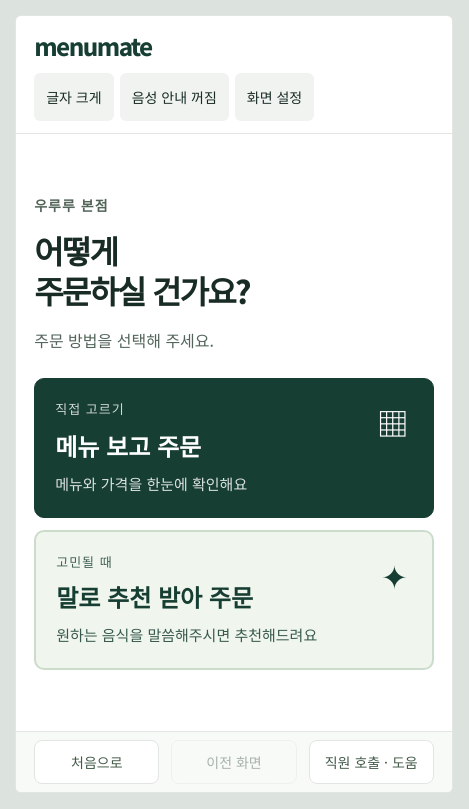
Test: React prototype › one press starts listening after the permission, the next press finishes and submits
What coordinates should you click on to do the following:
click the button "고민될 때 말로 추천 받아 주문 원하는 음식을 말씀해주시면 추천해드려요 ✦"
I would click on:
 (234, 600)
Its box is [34,530,434,670].
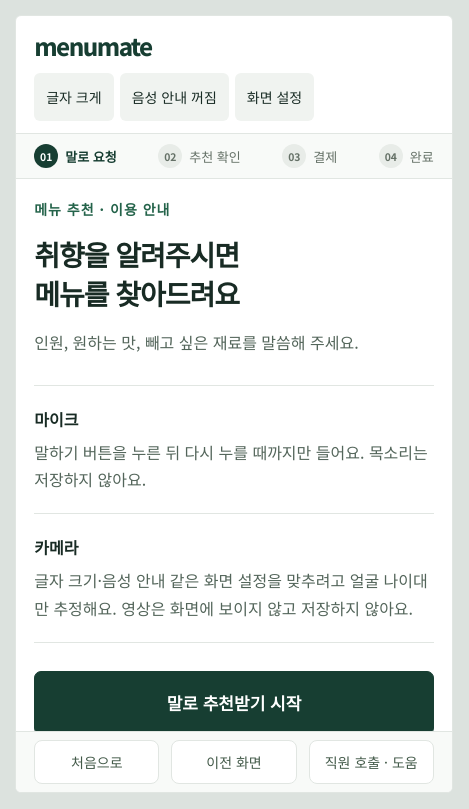
What coordinates should you click on to do the following:
click the button "말로 추천받기 시작"
I would click on:
 (234, 703)
Its box is [34,671,434,735].
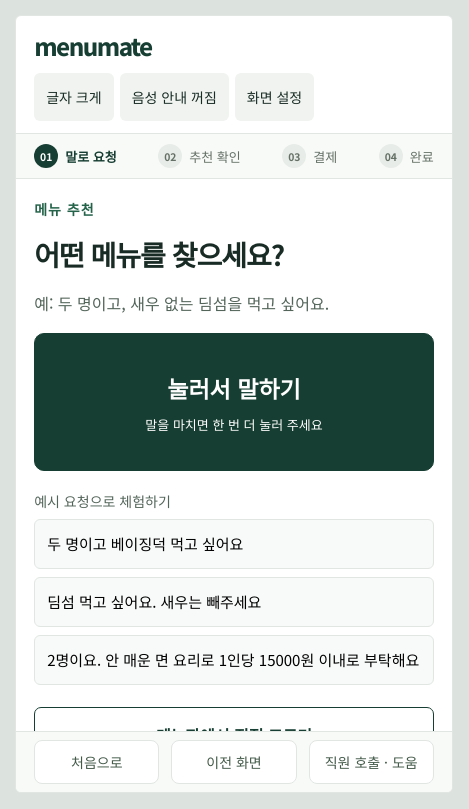
What coordinates should you click on to do the following:
click the button "눌러서 말하기 말을 마치면 한 번 더 눌러 주세요"
I would click on:
 (234, 402)
Its box is [34,333,434,471].
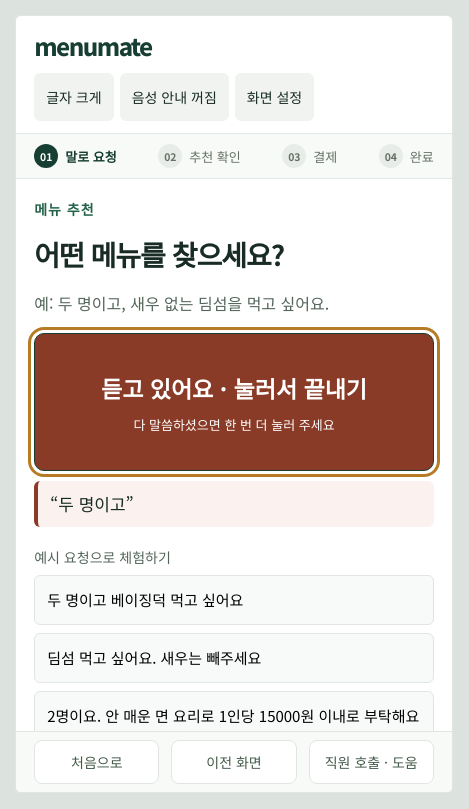
Now the text "“두 명이고”" is shown, box [34,481,434,527]
What coordinates should you click on to do the following:
click the button "듣고 있어요 · 눌러서 끝내기 다 말씀하셨으면 한 번 더 눌러 주세요"
I would click on:
 (234, 402)
Its box is [34,333,434,471].
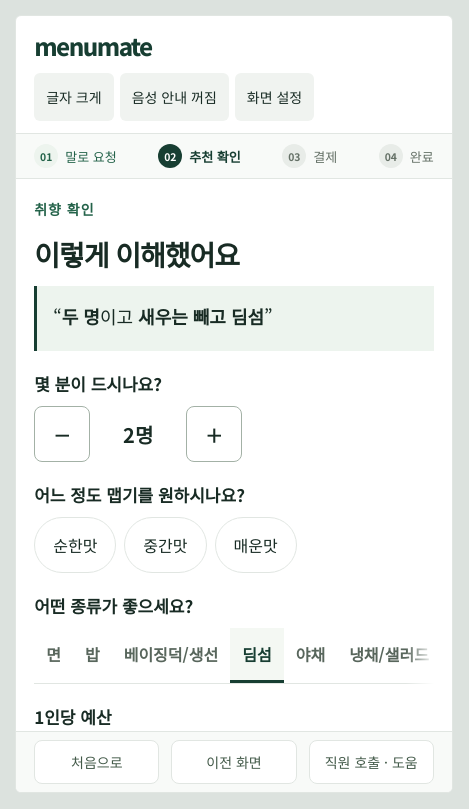
Now the heading "이렇게 이해했어요" is shown, box [34,234,239,274]
